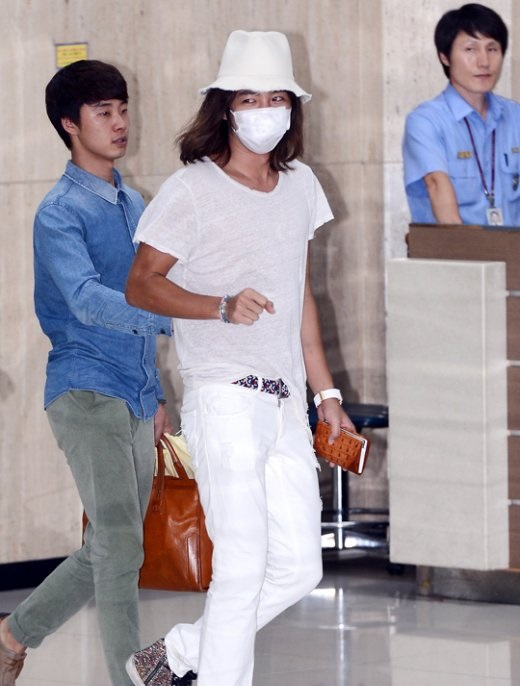face: (78, 85, 127, 159), (452, 19, 501, 92)
face_mask: (231, 74, 288, 156)
